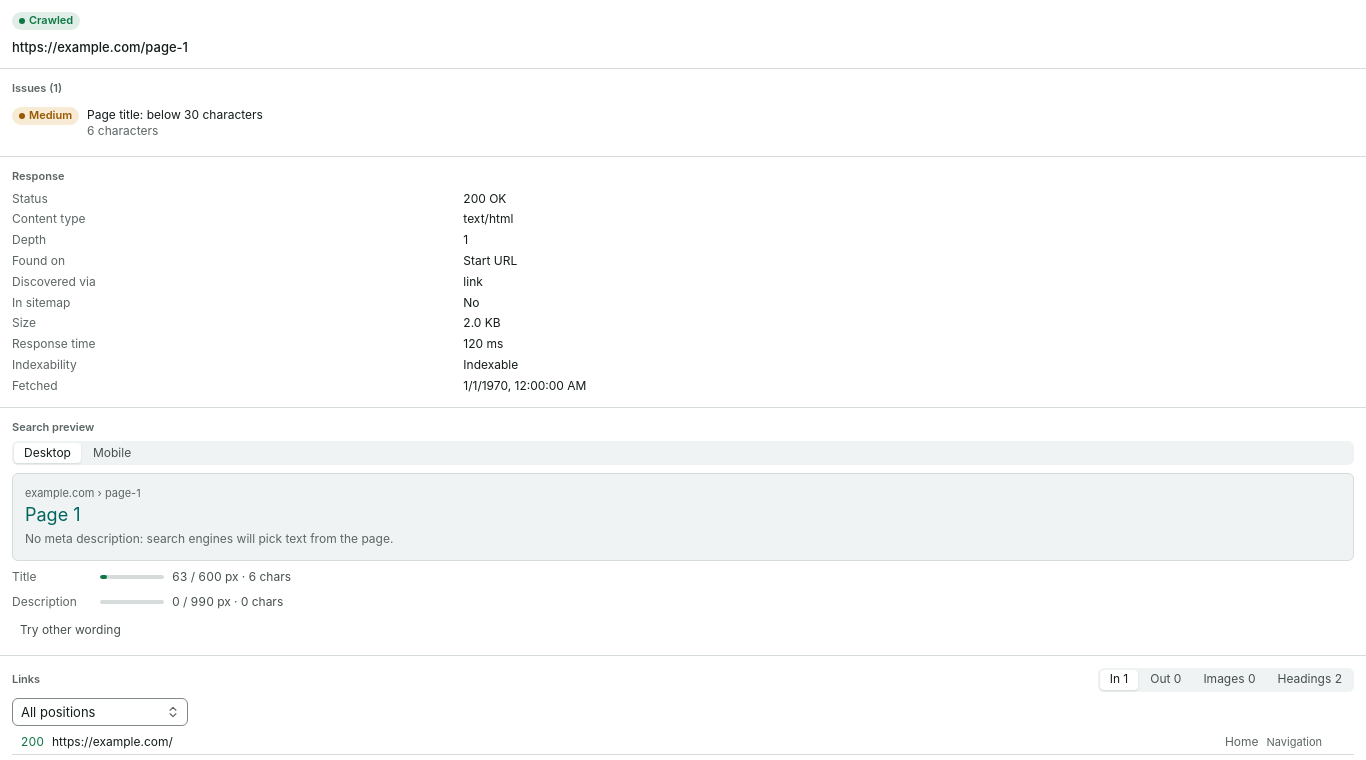
Scenario: empty_link_list_says_none
The image size is (1366, 760).
Click the radio button labelled "Out 0" at {"x": 1166, "y": 680}, box [1140, 670, 1191, 690]
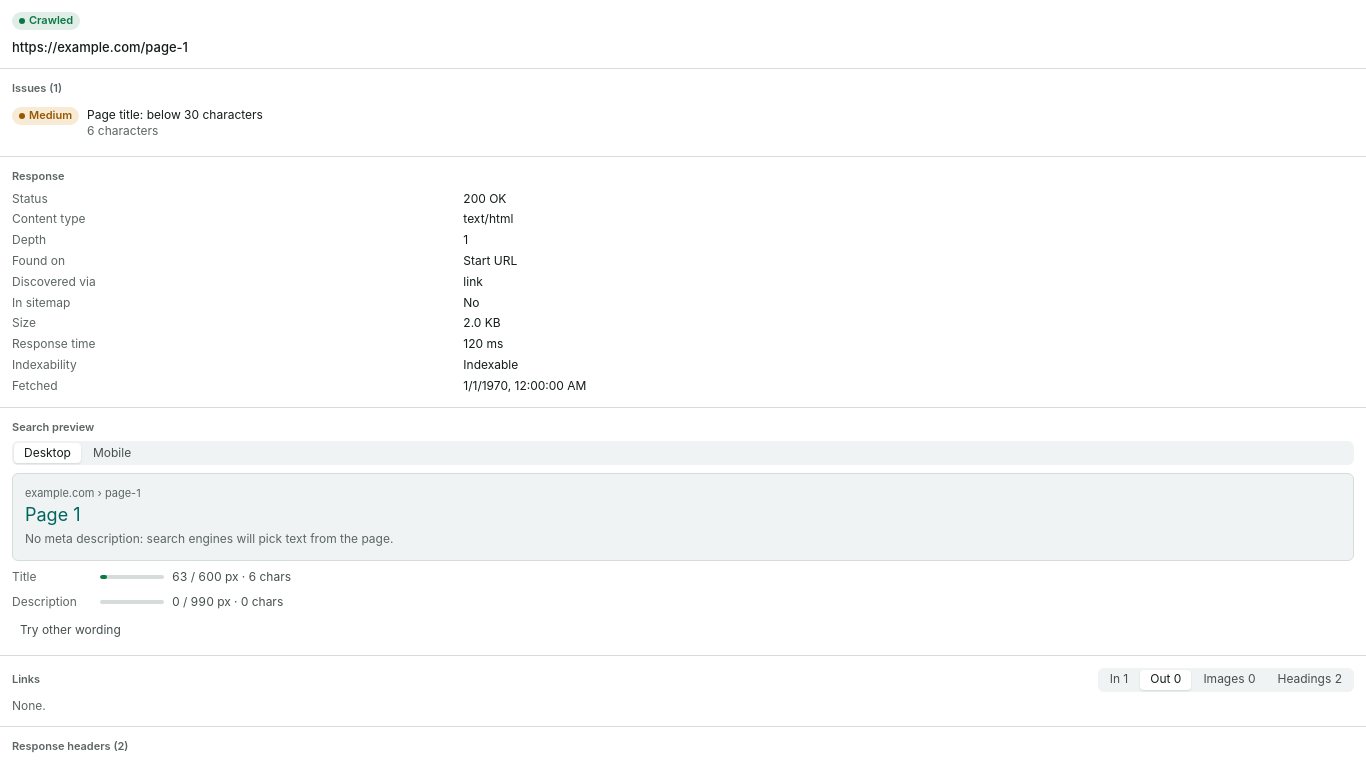
Now the text "None." is shown, box [12, 698, 46, 713]
